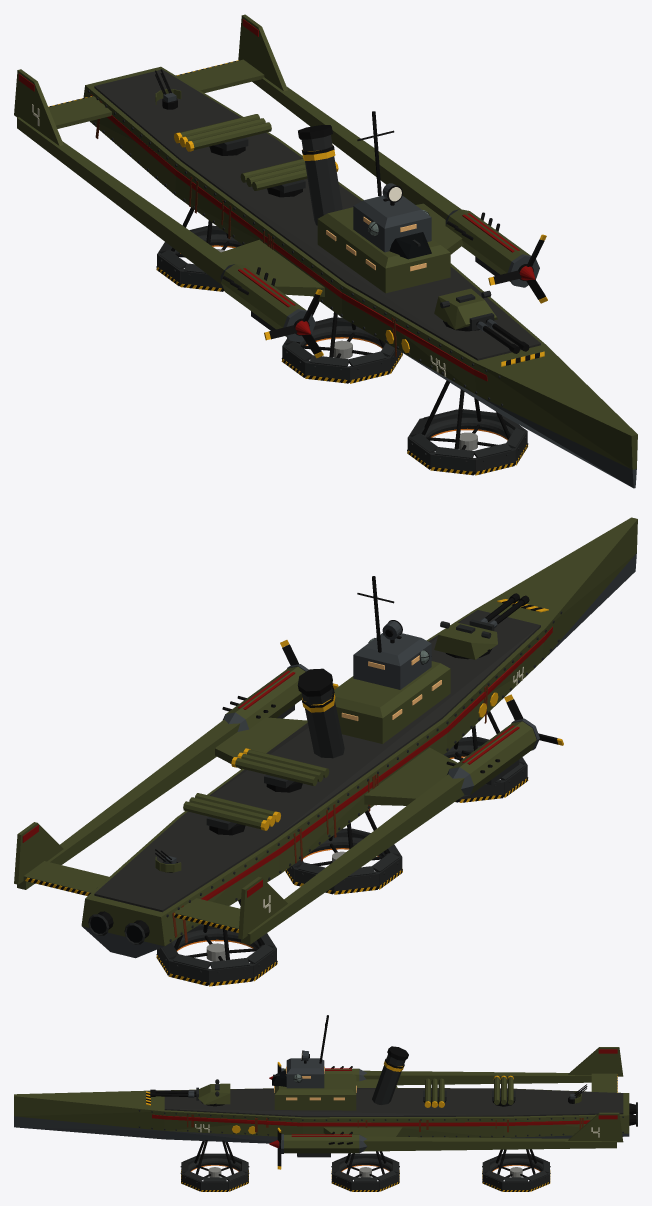
File: destroyer.obj
3 views of the same model, one above another, from view 1: azimuth 30°, elevation 25°; view 2: azimuth 150°, elevation 25°; view 3: azimuth 270°, elevation 25° (orthographic). The views are drawn at different scales.
Parts seen in each view (by area): view 1: destroyer; view 2: destroyer; view 3: destroyer.
Part boxes in pixels (x1=…): destroyer: x1=14, y1=14, x2=637, y2=488; destroyer: x1=14, y1=517, x2=637, y2=986; destroyer: x1=14, y1=1015, x2=637, y2=1191.
Bounding box in the file's own units: 173 × 158 × 550.
Materials: 1 (1 with a texture image).
